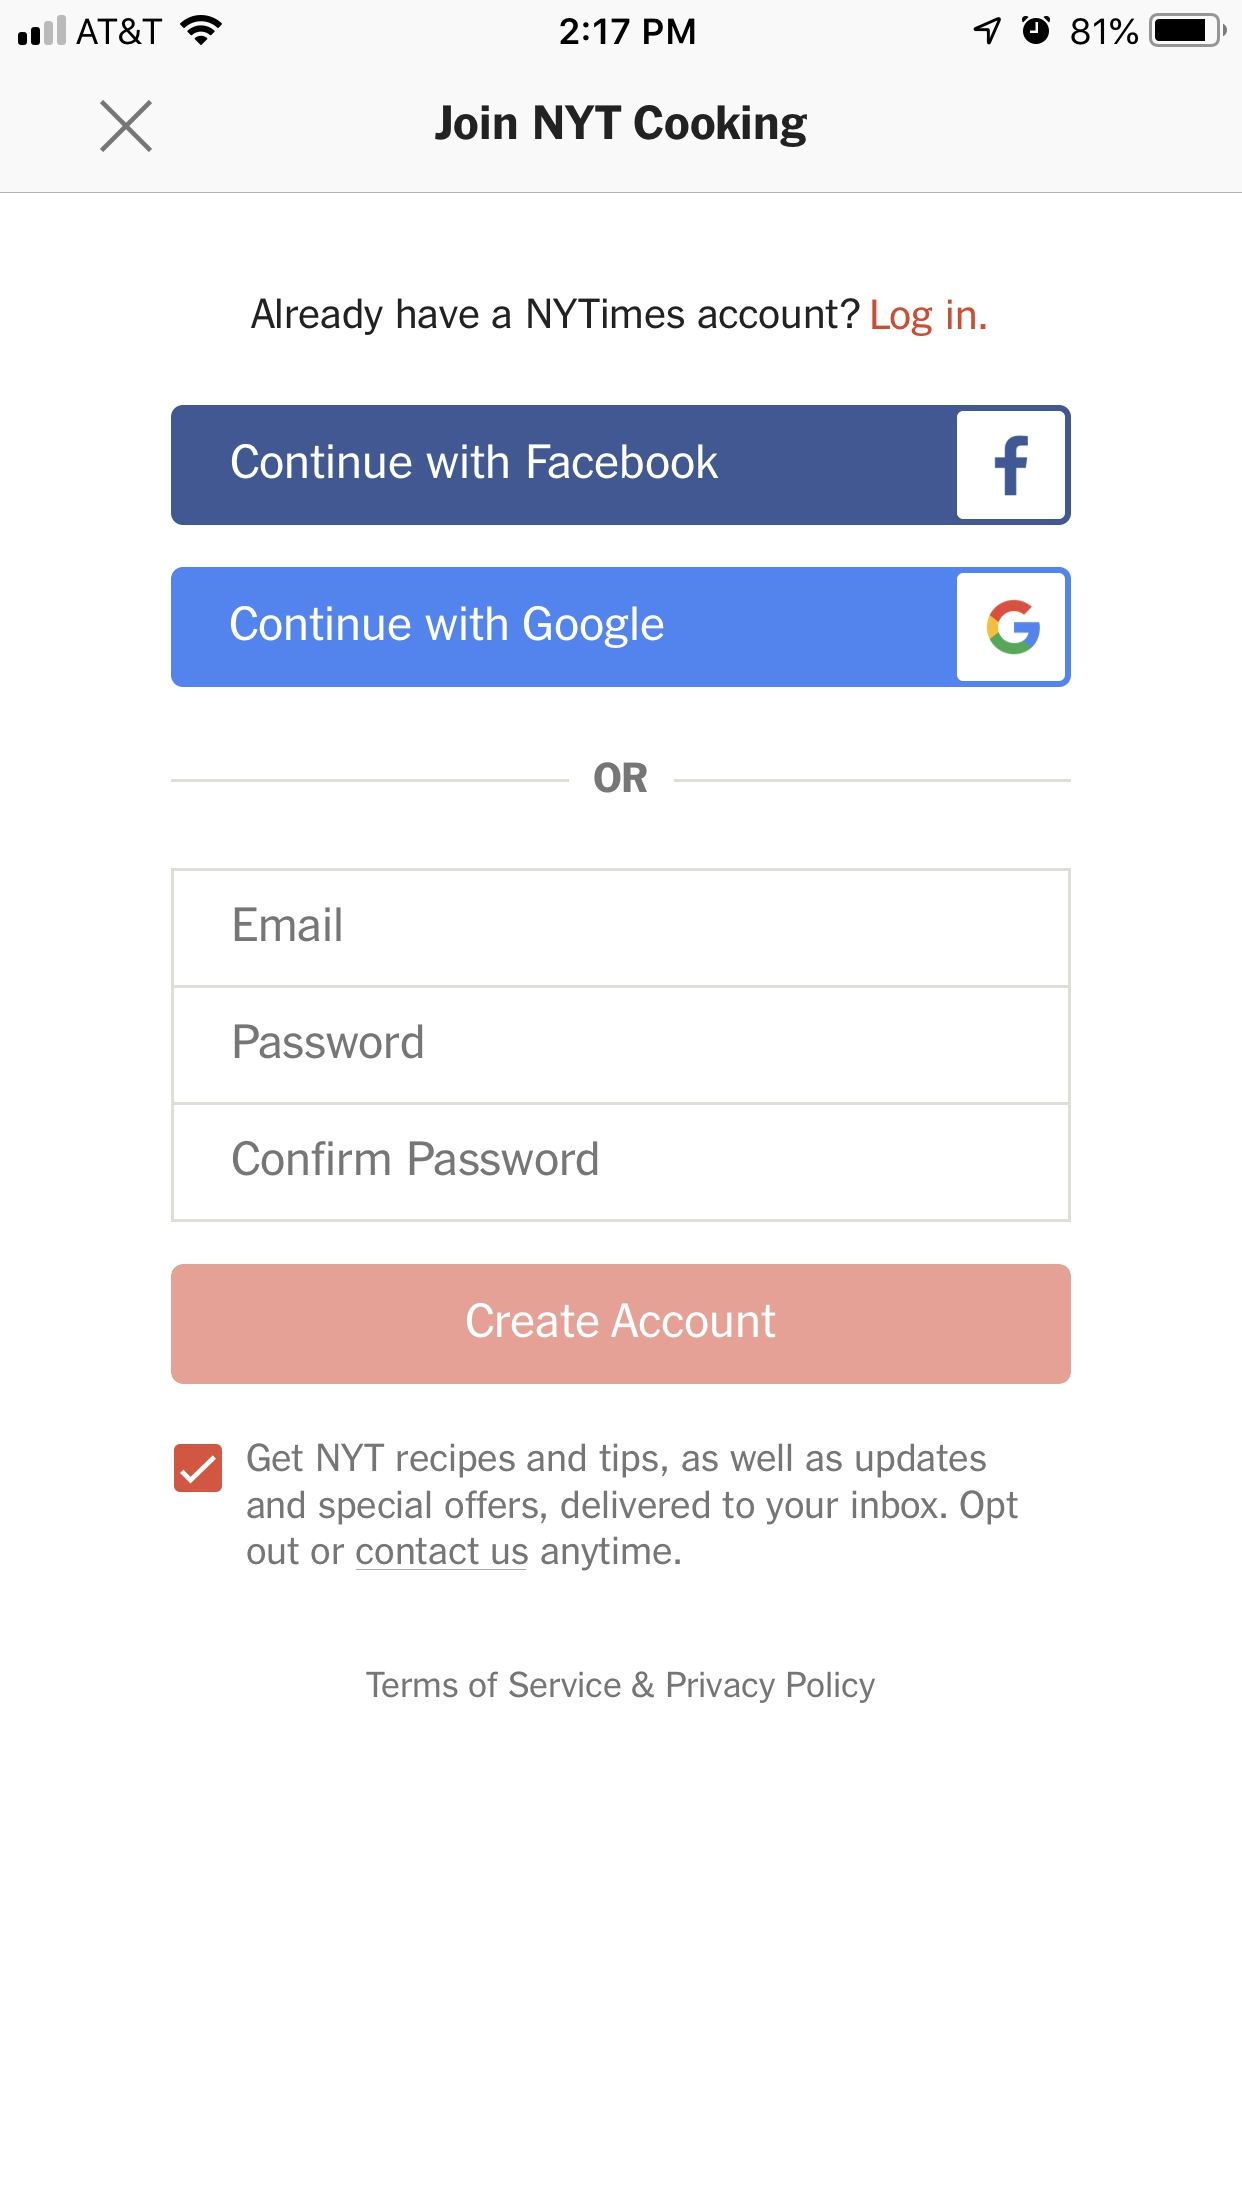CheckedTextView: (174, 1444, 1019, 1573)
EditText: (171, 869, 1071, 989), (171, 986, 1071, 1106), (171, 1102, 1071, 1222)
Icon: (102, 100, 153, 155)
Text: (249, 1444, 1019, 1573), (252, 299, 987, 338), (367, 1671, 877, 1705), (435, 105, 808, 149), (232, 1140, 597, 1177), (235, 1024, 425, 1060), (234, 907, 343, 943), (594, 763, 648, 795)
TextButton: (171, 569, 1074, 688), (171, 406, 1072, 526), (171, 1265, 1071, 1385)
UpperTaskBar: (2, 2, 1242, 49)
